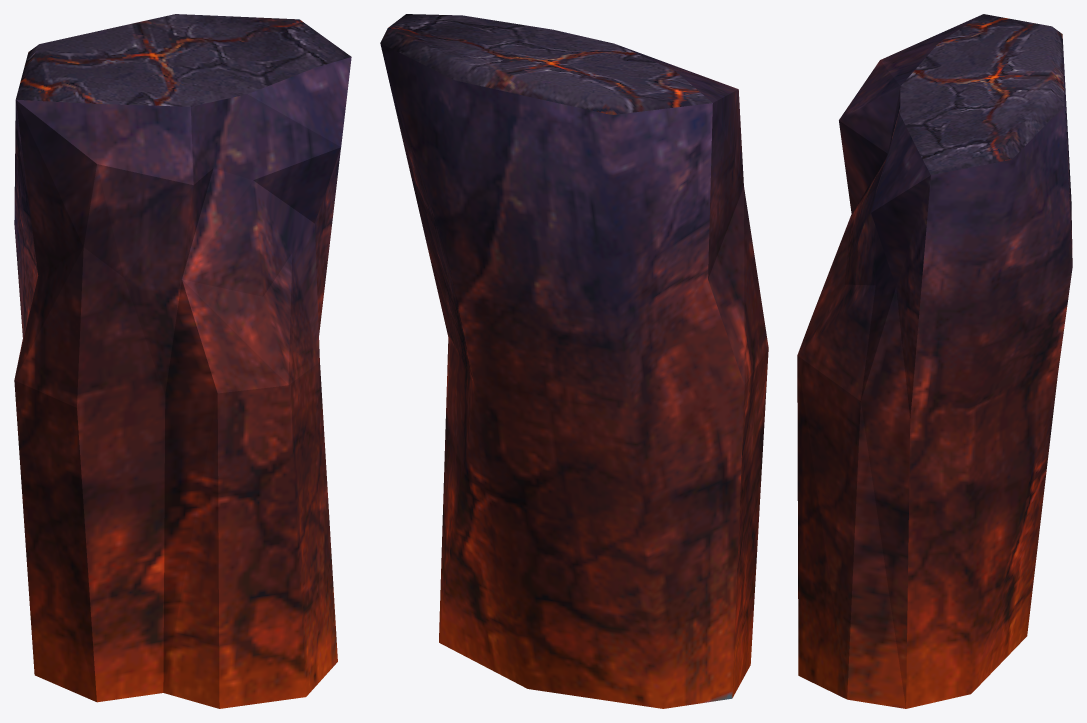
The model's file is 10509_stone03.FBX.
3 renders of one model, left to right at view 1: azimuth 30°, elevation 25°; view 2: azimuth 150°, elevation 25°; view 3: azimuth 270°, elevation 25°, orthographic. The views are drawn at different scales.
Visible parts, largest first — view 1: Object985; view 2: Object985; view 3: Object985.
Part boxes in pixels (x1,y1,x2,y2): Object985: (14,14,351,708); Object985: (380,14,768,708); Object985: (797,14,1072,708).
Size of the model in its own units: 365 by 638 by 273.
